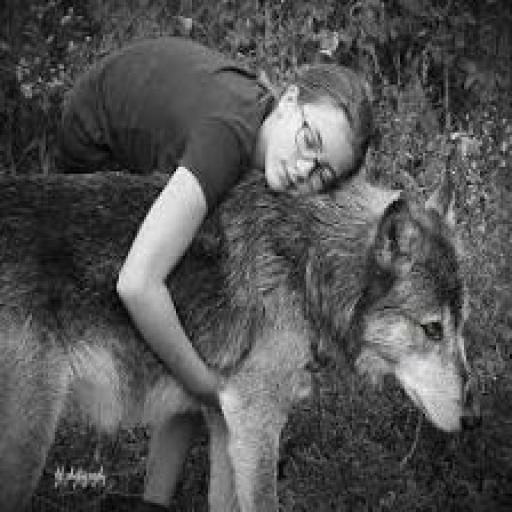wolf: (0, 155, 497, 512)
